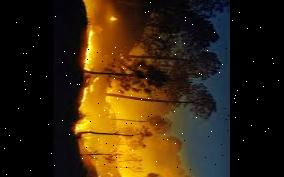fire: (74, 16, 98, 138), (79, 142, 140, 177), (106, 7, 118, 25)
